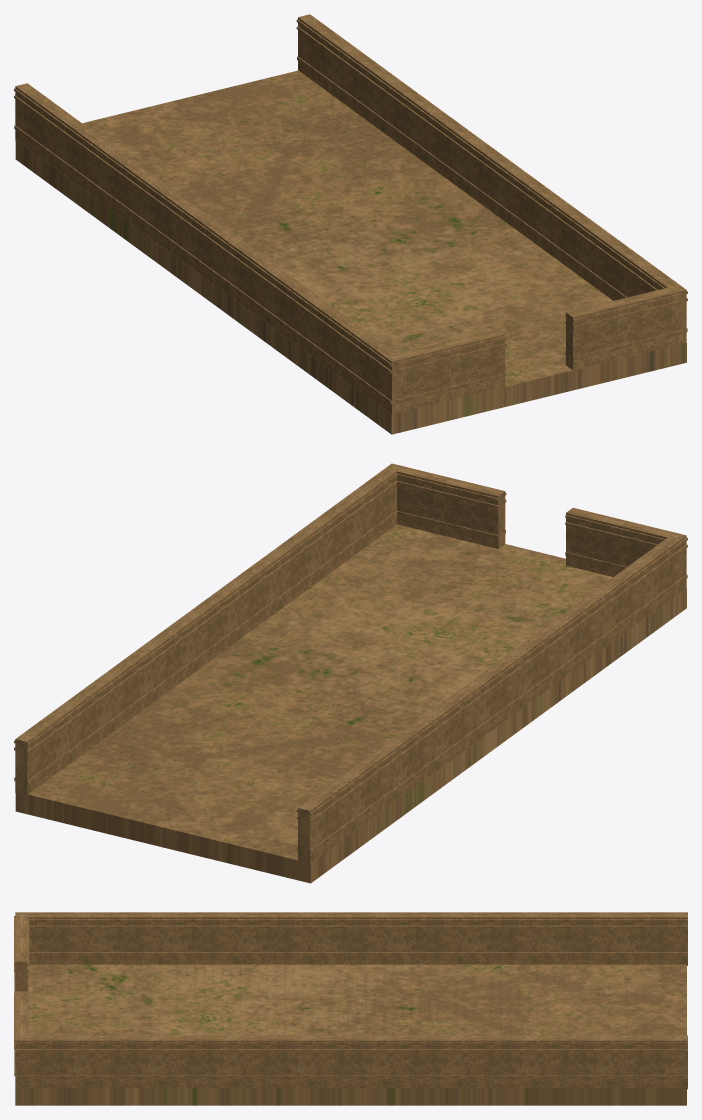
File: MDL_E_LVL_Temple_05.fbx
3 renders of one model, top to bottom at view 1: azimuth 30°, elevation 25°; view 2: azimuth 150°, elevation 25°; view 3: azimuth 270°, elevation 25°, orthographic. The views are drawn at different scales.
Parts seen in each view (by area): view 1: Plane.023, Cube.043, Cube.047; view 2: Plane.023, Cube.043, Cube.047; view 3: Cube.043, Plane.023, Cube.047.
Part boxes in pixels (bbox=[...]): Plane.023: bbox=[15, 70, 686, 434]; Cube.043: bbox=[14, 14, 687, 414]; Cube.047: bbox=[390, 287, 682, 411]; Plane.023: bbox=[15, 524, 686, 883]; Cube.043: bbox=[14, 463, 687, 865]; Cube.047: bbox=[391, 464, 681, 576]; Cube.043: bbox=[15, 912, 687, 1089]; Plane.023: bbox=[15, 964, 686, 1105]; Cube.047: bbox=[14, 914, 29, 1076].
Size of the model in its own units: 1559 by 365 by 3425.
